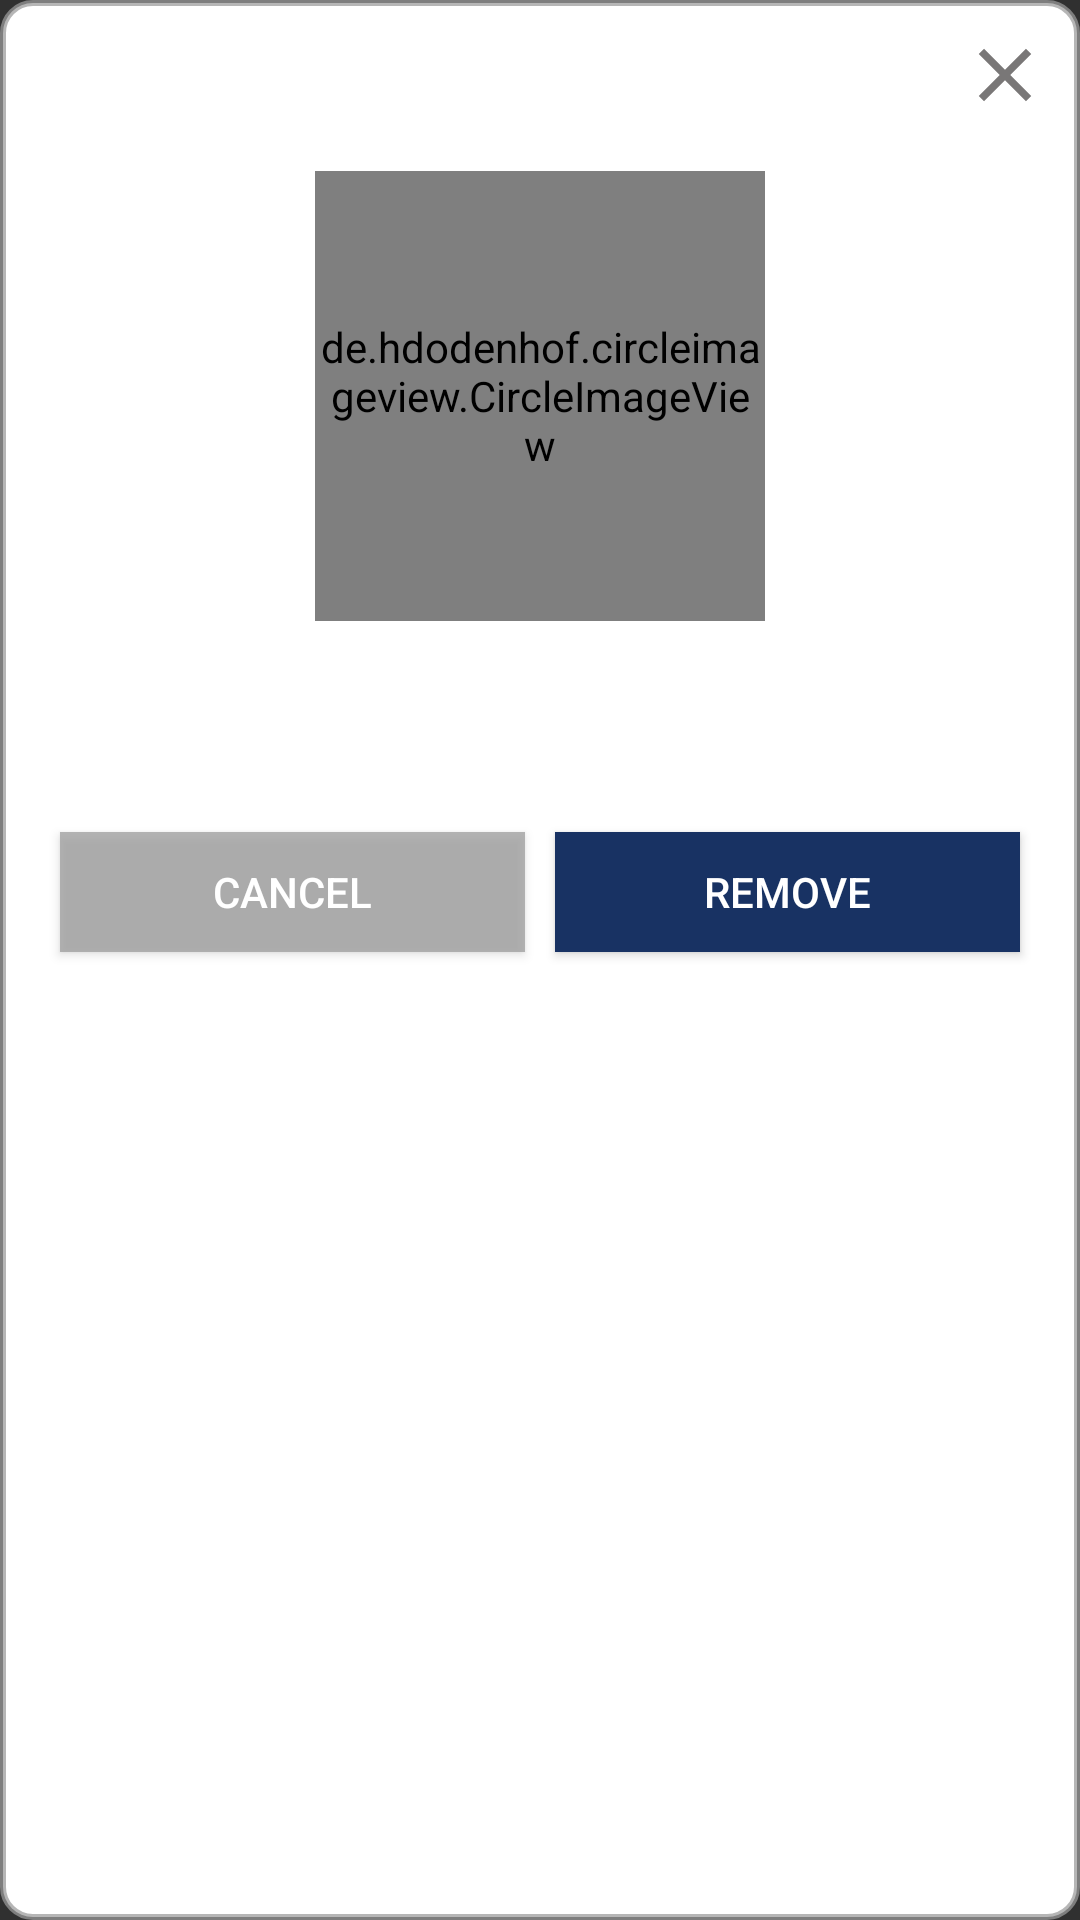

Screen size 1080w x 1920h. Icon name, then its center in pixels as (x,y):
close: (1005,75)
